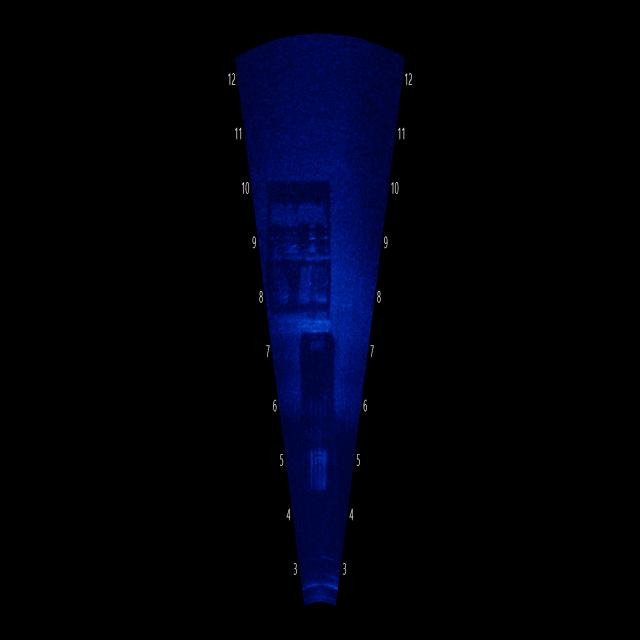square: (261, 152, 345, 320), (298, 326, 342, 506)
